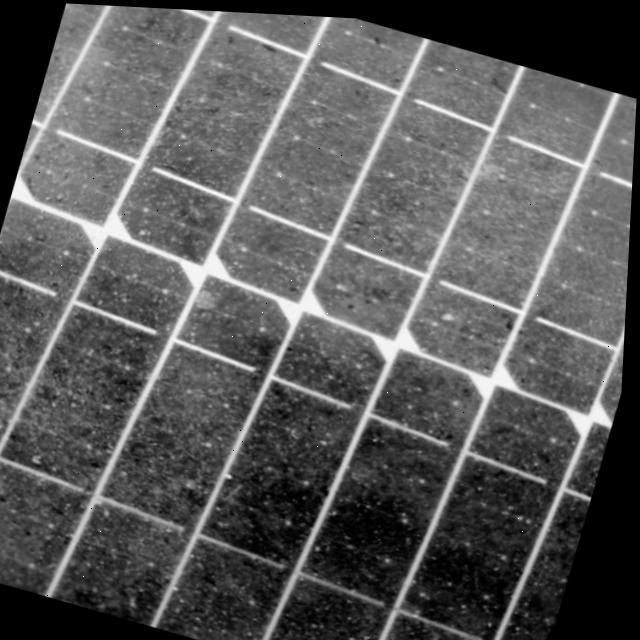Surface Contaminant: (0, 3, 637, 640)
